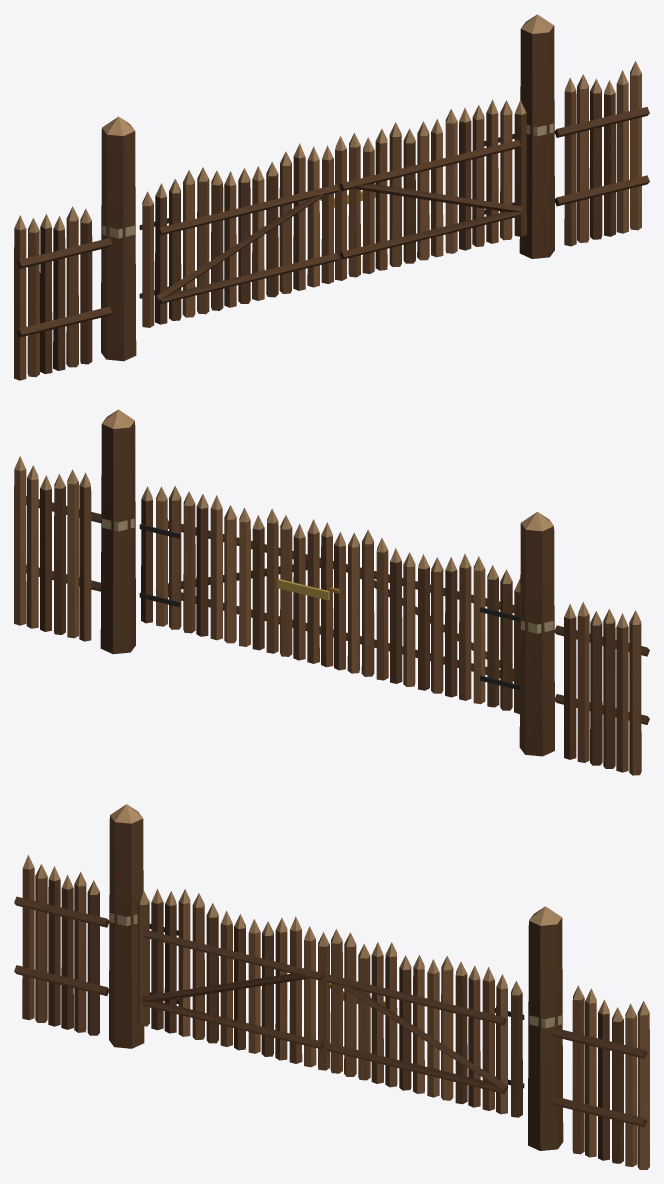
The model's file is fence_gate_wide_low.glb.
3 views of the same model, one above another, from view 1: azimuth 30°, elevation 25°; view 2: azimuth 150°, elevation 25°; view 3: azimuth 330°, elevation 25° (orthographic).
Parts seen in each view (by area): view 1: fence_gate_wide, leaf_r, leaf_l; view 2: fence_gate_wide, leaf_r, leaf_l; view 3: fence_gate_wide, leaf_r, leaf_l.
Boxes of the visible parts, <box> form: fence_gate_wide: <box>14,14,649,380</box>; leaf_r: <box>334,99,526,280</box>; leaf_l: <box>139,143,338,327</box>; fence_gate_wide: <box>14,409,649,775</box>; leaf_r: <box>139,486,333,667</box>; leaf_l: <box>330,529,520,714</box>; fence_gate_wide: <box>14,804,649,1169</box>; leaf_r: <box>325,929,524,1117</box>; leaf_l: <box>137,888,330,1070</box>.
Bounding box in the file's own units: 7.2 × 2.6 × 0.4455.
